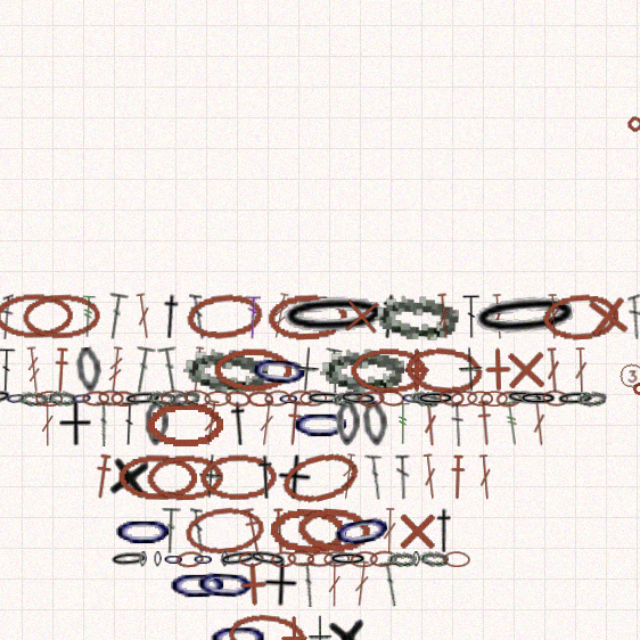chain: (472, 259, 575, 307), (305, 261, 406, 304), (305, 396, 382, 452), (223, 447, 296, 494), (260, 541, 332, 588), (222, 308, 298, 352), (416, 307, 488, 353), (224, 260, 295, 306), (390, 262, 465, 304), (321, 448, 390, 493), (349, 446, 411, 495), (537, 261, 606, 305), (343, 309, 417, 350), (297, 449, 367, 492), (296, 262, 367, 304), (297, 591, 366, 633), (81, 262, 150, 304), (165, 403, 235, 444), (57, 262, 127, 303), (190, 403, 258, 445), (237, 403, 306, 444), (249, 310, 318, 350), (369, 310, 438, 350), (190, 357, 258, 397), (278, 308, 337, 352), (231, 496, 289, 539), (243, 544, 300, 585), (208, 498, 264, 538), (160, 451, 216, 491), (316, 357, 372, 397), (127, 309, 153, 351), (379, 356, 404, 398), (189, 357, 210, 397), (357, 357, 378, 397), (253, 486, 289, 505), (279, 486, 315, 505), (38, 345, 74, 364), (505, 346, 541, 363), (158, 488, 193, 504), (170, 347, 205, 363), (359, 347, 394, 363), (550, 347, 585, 363), (352, 345, 380, 364), (421, 346, 449, 364), (350, 489, 385, 503), (330, 348, 365, 362), (427, 348, 462, 362), (517, 348, 552, 362), (211, 346, 238, 363), (568, 347, 595, 363), (223, 346, 248, 363), (394, 346, 418, 363), (216, 488, 241, 504), (331, 488, 356, 504), (369, 488, 394, 504), (457, 347, 482, 363), (430, 488, 456, 503), (103, 347, 129, 362), (191, 347, 217, 362), (299, 488, 323, 504), (259, 347, 283, 363), (376, 347, 400, 363), (497, 347, 521, 363), (386, 488, 411, 503), (402, 489, 428, 503), (78, 348, 104, 362), (314, 488, 338, 503), (203, 347, 227, 362), (325, 347, 349, 362), (346, 488, 369, 503), (148, 347, 171, 362), (294, 347, 317, 362), (315, 347, 338, 362), (447, 347, 470, 362), (538, 347, 561, 362), (451, 489, 475, 503), (93, 348, 117, 362), (134, 348, 158, 362), (241, 348, 265, 362), (484, 348, 508, 362), (271, 489, 294, 503), (159, 348, 182, 362), (279, 348, 302, 362), (472, 348, 495, 362), (66, 347, 86, 362), (124, 347, 144, 362), (414, 347, 433, 362), (283, 629, 308, 640), (205, 489, 224, 503), (231, 489, 250, 503), (306, 348, 325, 362), (302, 630, 325, 640), (329, 630, 348, 640), (184, 489, 191, 503), (197, 489, 204, 503), (256, 489, 263, 503), (424, 489, 431, 503), (321, 630, 328, 640)
double: (176, 309, 199, 351), (200, 309, 223, 351), (153, 262, 175, 304), (394, 497, 414, 538), (382, 403, 401, 444), (238, 356, 257, 397), (287, 356, 305, 397), (179, 262, 197, 303), (203, 451, 221, 491), (371, 497, 388, 538), (431, 403, 448, 444), (527, 356, 544, 397), (227, 309, 244, 350), (167, 357, 184, 397), (59, 310, 76, 350), (444, 262, 460, 303), (324, 498, 340, 538), (480, 404, 496, 444), (144, 357, 160, 397), (432, 357, 448, 397), (540, 310, 556, 350), (468, 263, 484, 303), (348, 310, 363, 350), (228, 263, 243, 303), (492, 263, 507, 303), (397, 451, 411, 491), (409, 404, 423, 444), (565, 310, 579, 350), (37, 263, 51, 303), (277, 263, 291, 303), (541, 263, 555, 303), (613, 263, 627, 303), (349, 498, 362, 538), (229, 451, 242, 491), (97, 357, 110, 397), (458, 357, 470, 397), (62, 263, 74, 303), (14, 263, 25, 303)
half_double: (390, 262, 418, 304), (199, 262, 225, 304), (440, 451, 464, 491), (260, 357, 284, 397), (273, 450, 295, 492), (284, 404, 307, 444), (142, 403, 162, 444), (299, 591, 317, 632), (311, 356, 329, 397), (479, 356, 497, 397), (299, 451, 316, 491), (107, 310, 124, 350), (456, 404, 472, 444)
noise: (604, 322, 630, 348), (611, 105, 628, 122), (617, 340, 629, 352)
single: (573, 260, 618, 305), (155, 401, 197, 446), (358, 261, 401, 304), (263, 497, 305, 539), (347, 543, 388, 586), (479, 309, 520, 350), (503, 309, 544, 350), (300, 545, 340, 585), (408, 451, 448, 491), (408, 310, 448, 350), (303, 403, 337, 445), (292, 497, 324, 538), (112, 357, 143, 397), (320, 309, 344, 350), (236, 403, 259, 444), (464, 309, 487, 350), (333, 545, 354, 585)
treble: (502, 356, 522, 397), (298, 262, 318, 303), (359, 403, 377, 444), (83, 309, 100, 350), (155, 309, 172, 350), (132, 263, 147, 303), (409, 357, 423, 397)
